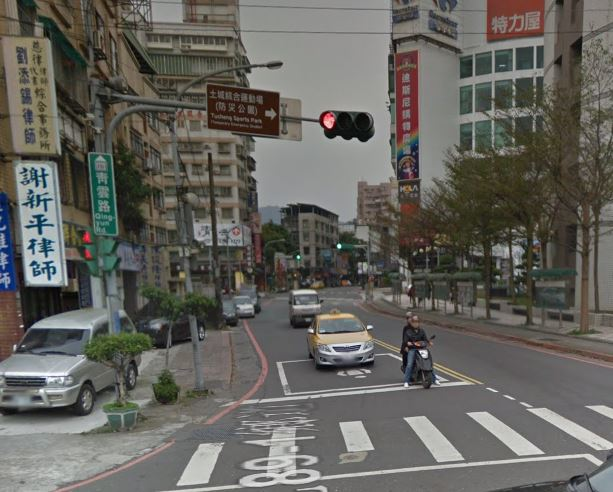Traffic_light_red: (316, 108, 378, 136)
